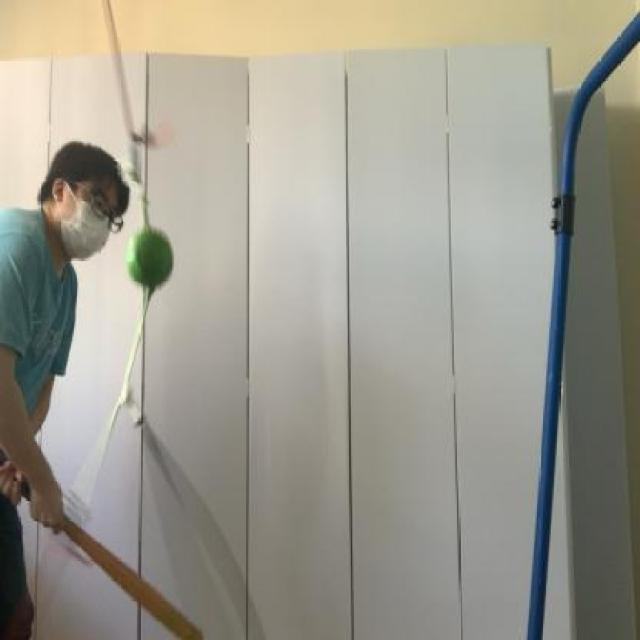baseball: (120, 225, 182, 298)
